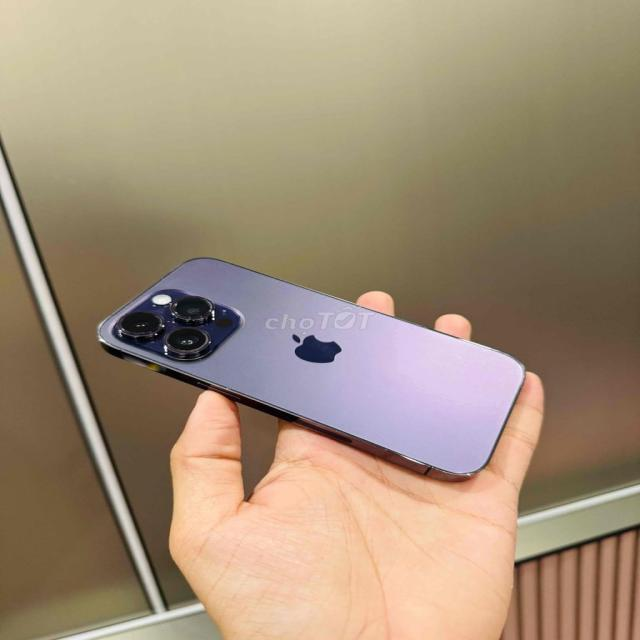gen_14: (83, 247, 531, 483)
